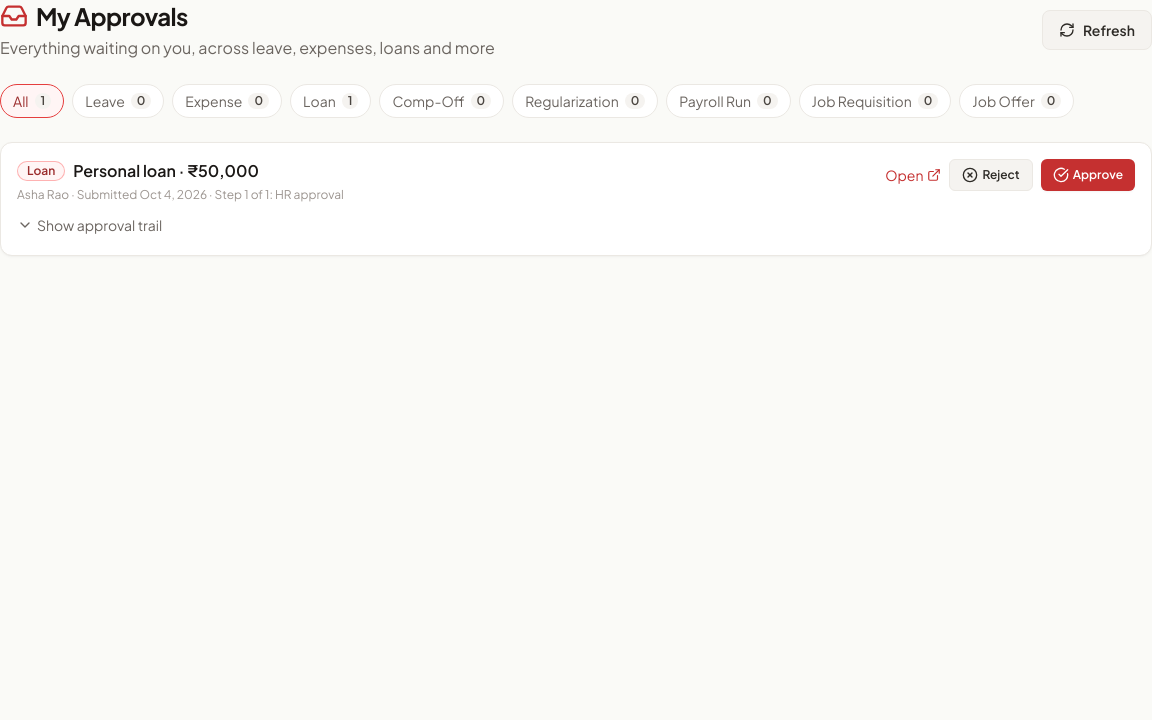
Test: MyApprovalsPage › keeps the loan approve note optional
This screenshot has width=1152, height=720.
Expected: the text "Personal loan · ₹50,000" is shown, top-left (73, 159), bottom-right (259, 183)
Click the button with aria-label "Approve Personal loan · ₹50,000" at (1088, 175), box top-left (1041, 159), bottom-right (1135, 191)
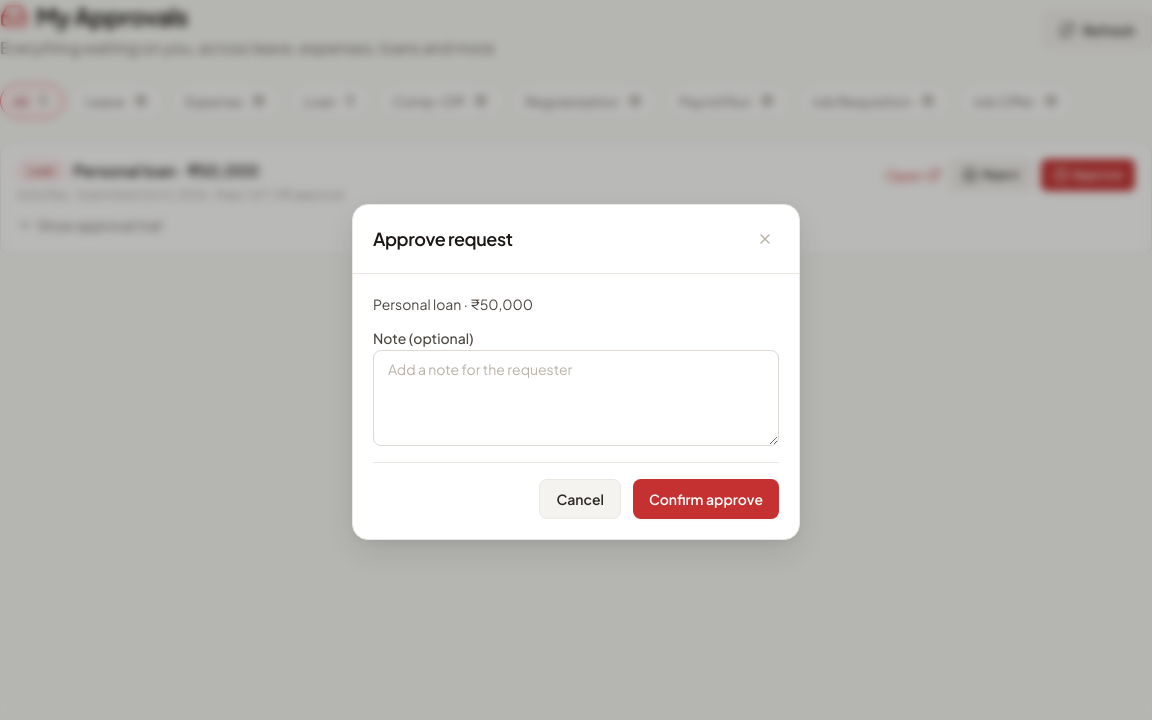
Expected: the text box labelled "Note (optional)" is shown, top-left (373, 350), bottom-right (779, 446)
Expected: the button "Confirm approve" is enabled, top-left (633, 479), bottom-right (779, 519)
